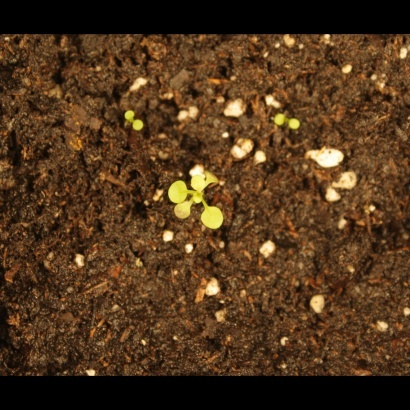leaf: (201, 204, 228, 235), (170, 198, 199, 225), (201, 163, 227, 193), (167, 174, 190, 206), (112, 100, 135, 123), (134, 116, 157, 139), (265, 107, 288, 130), (289, 110, 312, 133), (184, 172, 207, 195)
